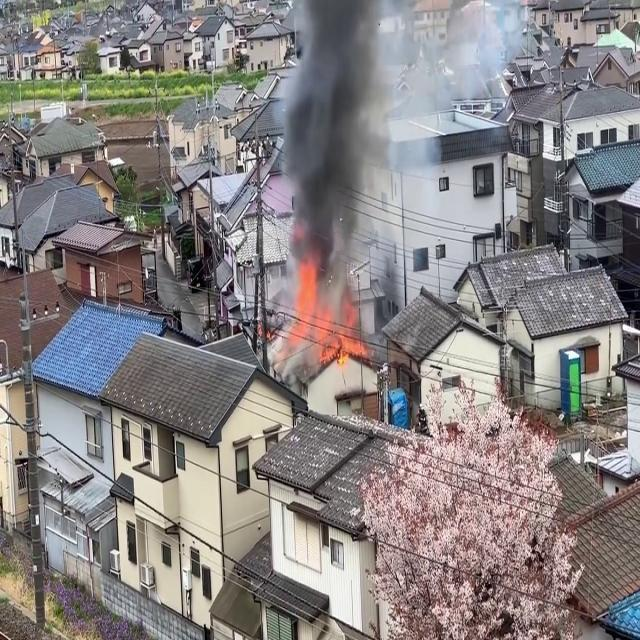Fire: (284, 254, 370, 366)
Smoke: (273, 0, 404, 326)
